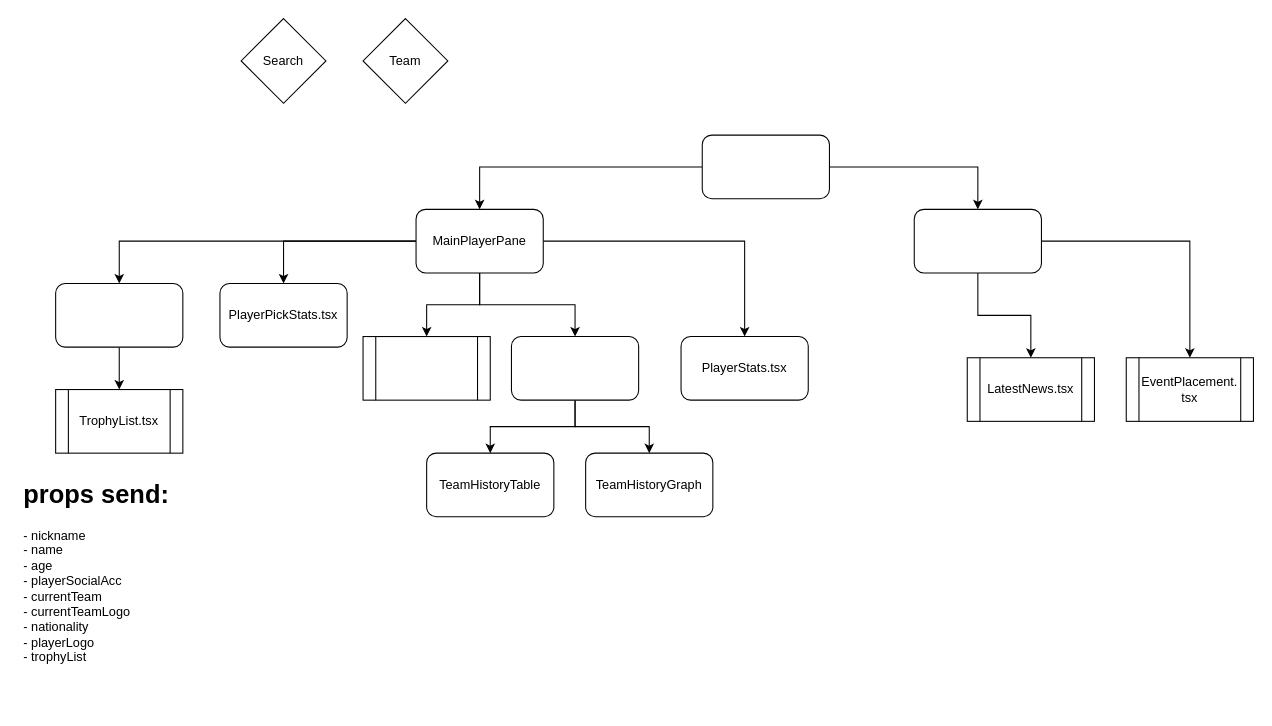
This 1272x726 diagram has some shape labels left out. Here are the shapes that lost their labels. From the top down, the centre of each, then its label:
At (765,166): "SplitPane".
At (977,240): "SidePlayerPane".
At (119,314): "PlayerHeader.tsx".
At (426,367): "MatchHistoryList. tsx".
At (574,367): "PlayerTeamHistory".
